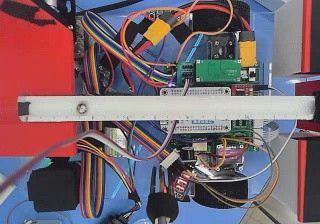ironball: (75, 100, 87, 114)
